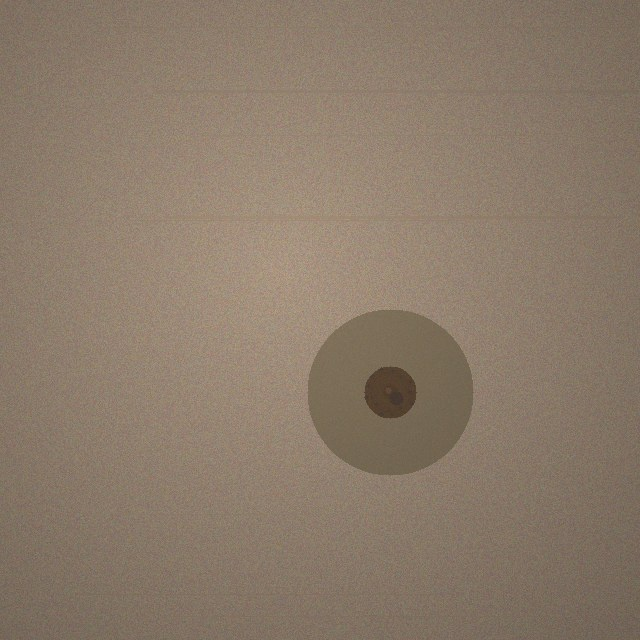cold_weld: (307, 309, 473, 475)
